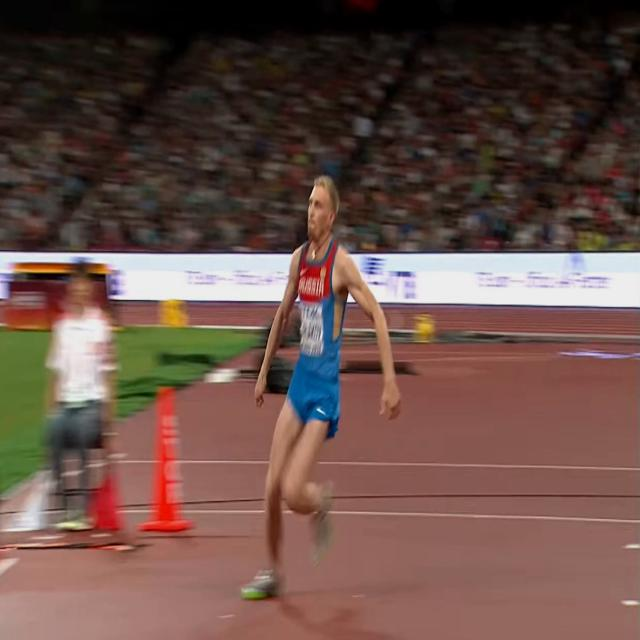run: (240, 172, 402, 604)
